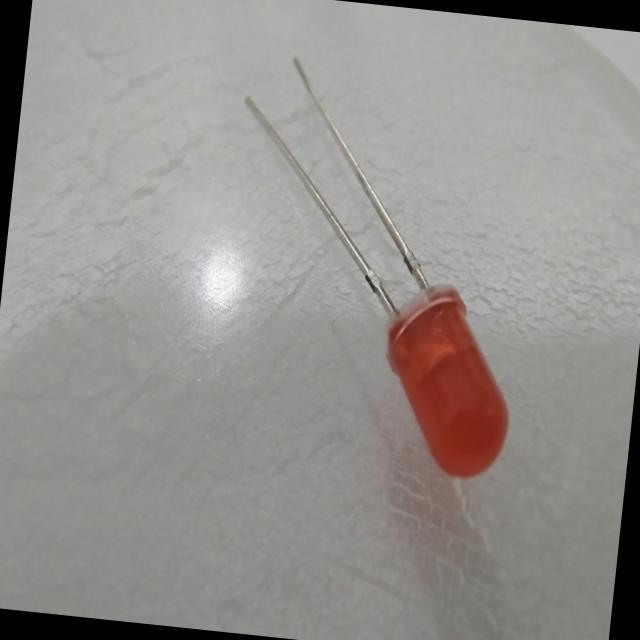red_led: (348, 260, 542, 498)
